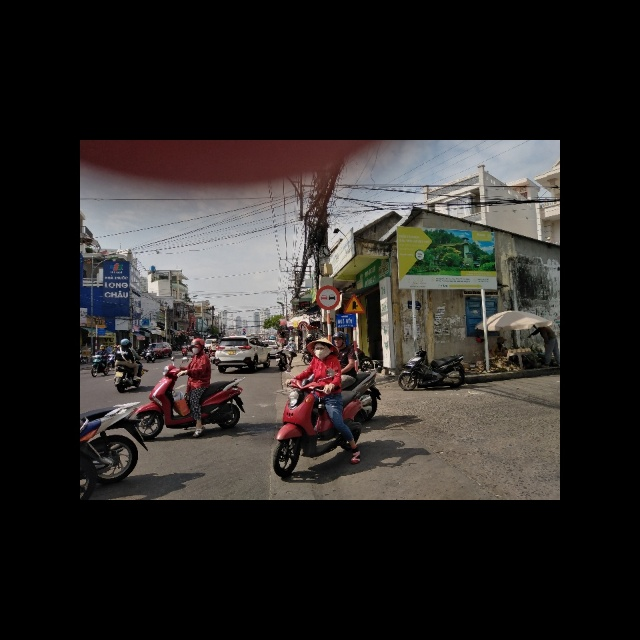Cấm vượt: (316, 285, 340, 309)
Giao nhau với đường không ưu tiên: (344, 292, 366, 314)
